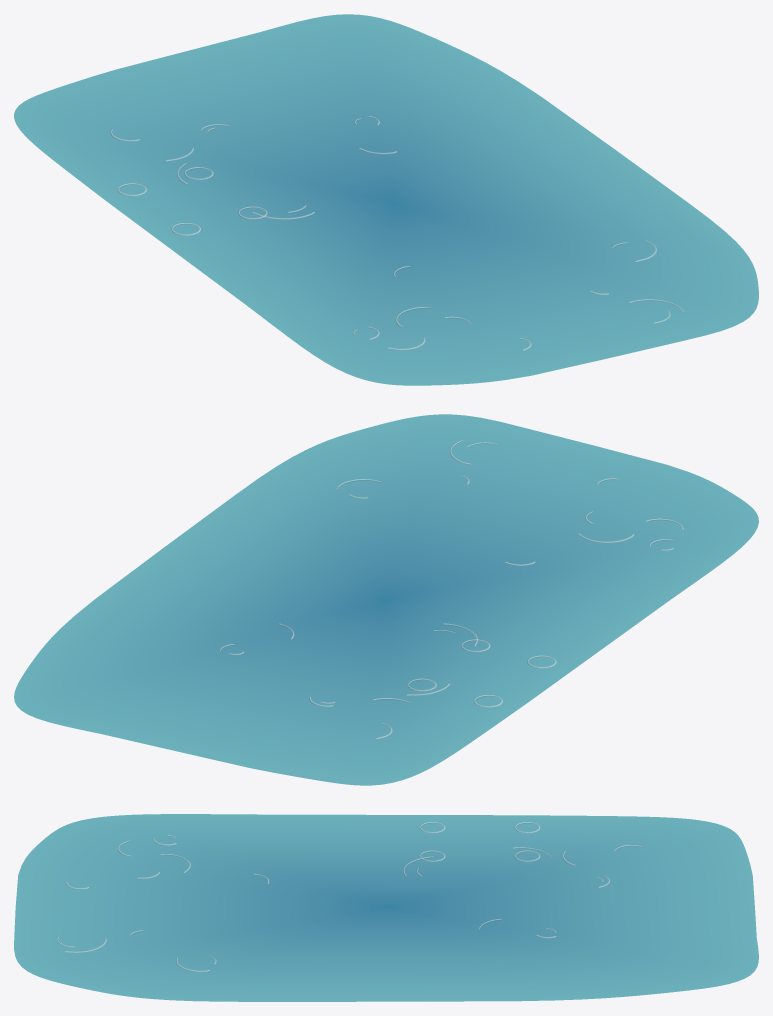
Rendered from painted-water.glb.
3 views of the same model, one above another, from view 1: azimuth 30°, elevation 25°; view 2: azimuth 150°, elevation 25°; view 3: azimuth 270°, elevation 25° (orthographic). The views are drawn at different scales.
Visible parts, largest first — view 1: painted-water-water, painted-water-shimmer; view 2: painted-water-water, painted-water-shimmer; view 3: painted-water-water, painted-water-shimmer.
Part boxes in pixels (x1,y1,x2,y2): painted-water-water: [14, 14, 758, 385]; painted-water-shimmer: [110, 116, 683, 350]; painted-water-water: [14, 414, 758, 785]; painted-water-shimmer: [219, 440, 683, 738]; painted-water-water: [14, 814, 758, 1001]; painted-water-shimmer: [57, 822, 643, 971].
Bounding box in the file's own units: 5.39 × 0.0238 × 9.03.
